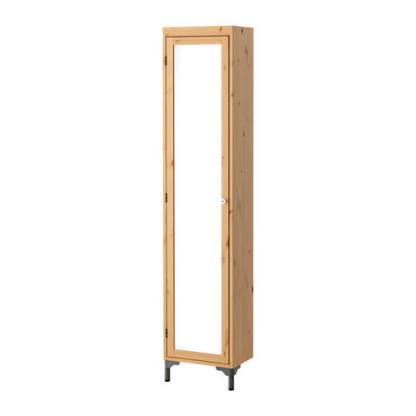Cabinet: (154, 20, 259, 393)
